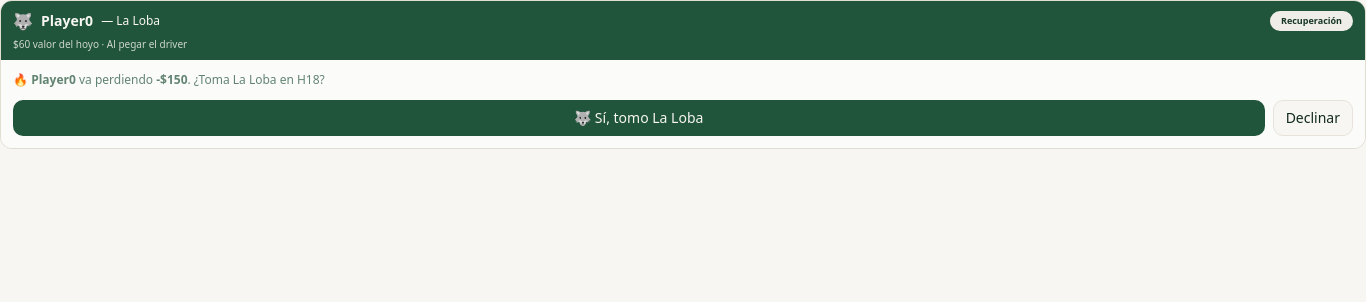
Test: Wolf H18 optional three-step recovery › accepts, chooses all-in, then saves partner and mode
Later steps or results of the test are not shown.
Click the button "🐺 Sí, tomo La Loba". click: click(639, 118)
box: 13,100 -> 1265,136
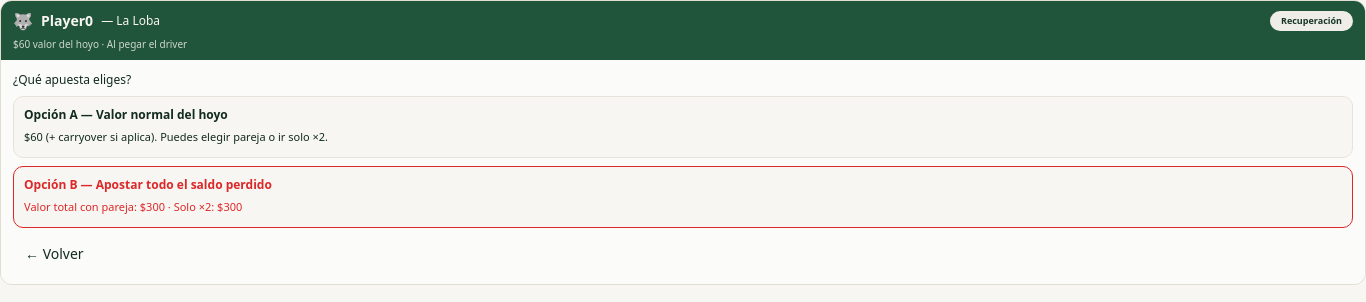
Click the button that starts with "Opción B — Apostar todo el saldo perdido". click: click(148, 184)
box: 13,166 -> 1353,228
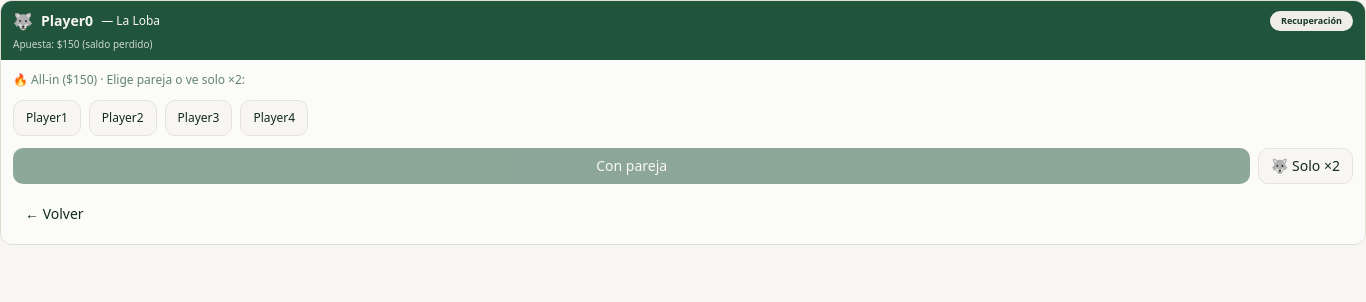
Expected: the button "Con pareja" is disabled, 13,148 -> 1250,184
